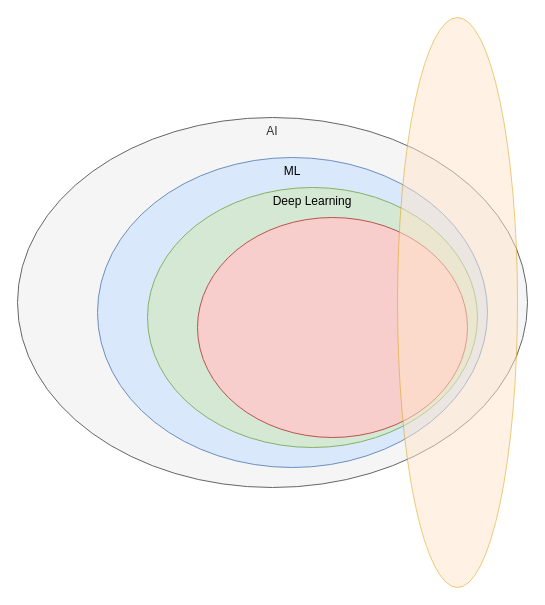
Some shapes in this 545 by 605 pixel diagram are drawn without their labels. The box of each missing label's shape, as (x1, y1, x2, y2) in pixels:
Data Science: (396, 16, 518, 588)
Neuronal Networks: (196, 216, 468, 438)
